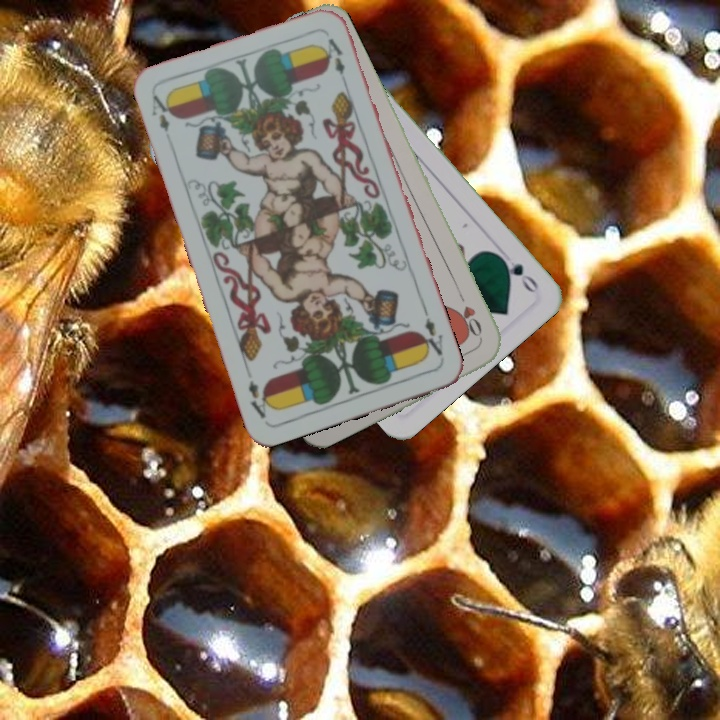EA: (416, 305, 446, 359), (147, 90, 177, 135)
GO: (494, 251, 542, 296)
HO: (454, 287, 485, 342)
